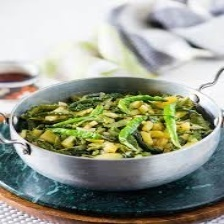sabzi: (14, 91, 218, 159)
